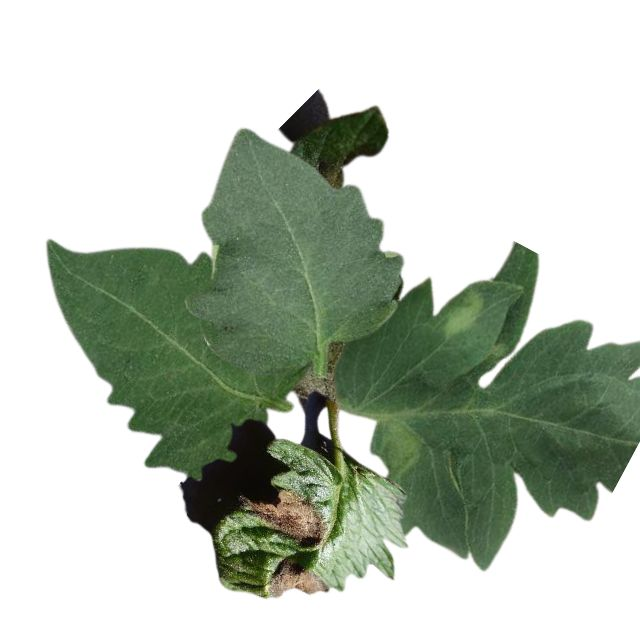Late_blight: (239, 485, 327, 547), (375, 406, 423, 481), (294, 339, 339, 399), (439, 284, 484, 342), (265, 559, 329, 599), (314, 154, 357, 187)
